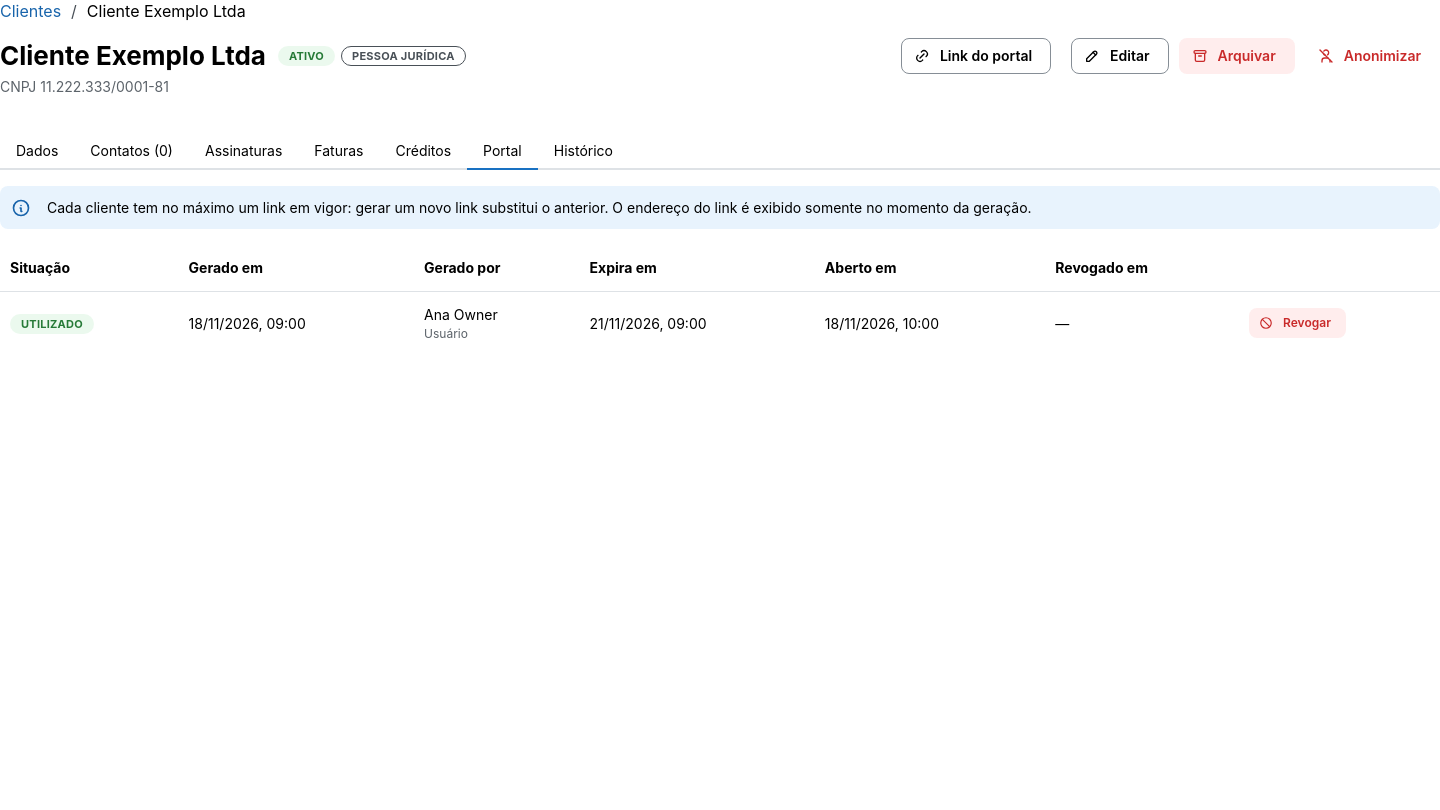
Scenario: links do portal na ficha do cliente › gerar link recarrega a lista de links, sem recarregar a ficha, e mantém o link de uso único na tela
Expected: the number of rows is 2, [0,246,1439,292]; [0,292,1439,355]
Click the button "Link do portal".
click(976, 56)  # box [901,38,1051,74]
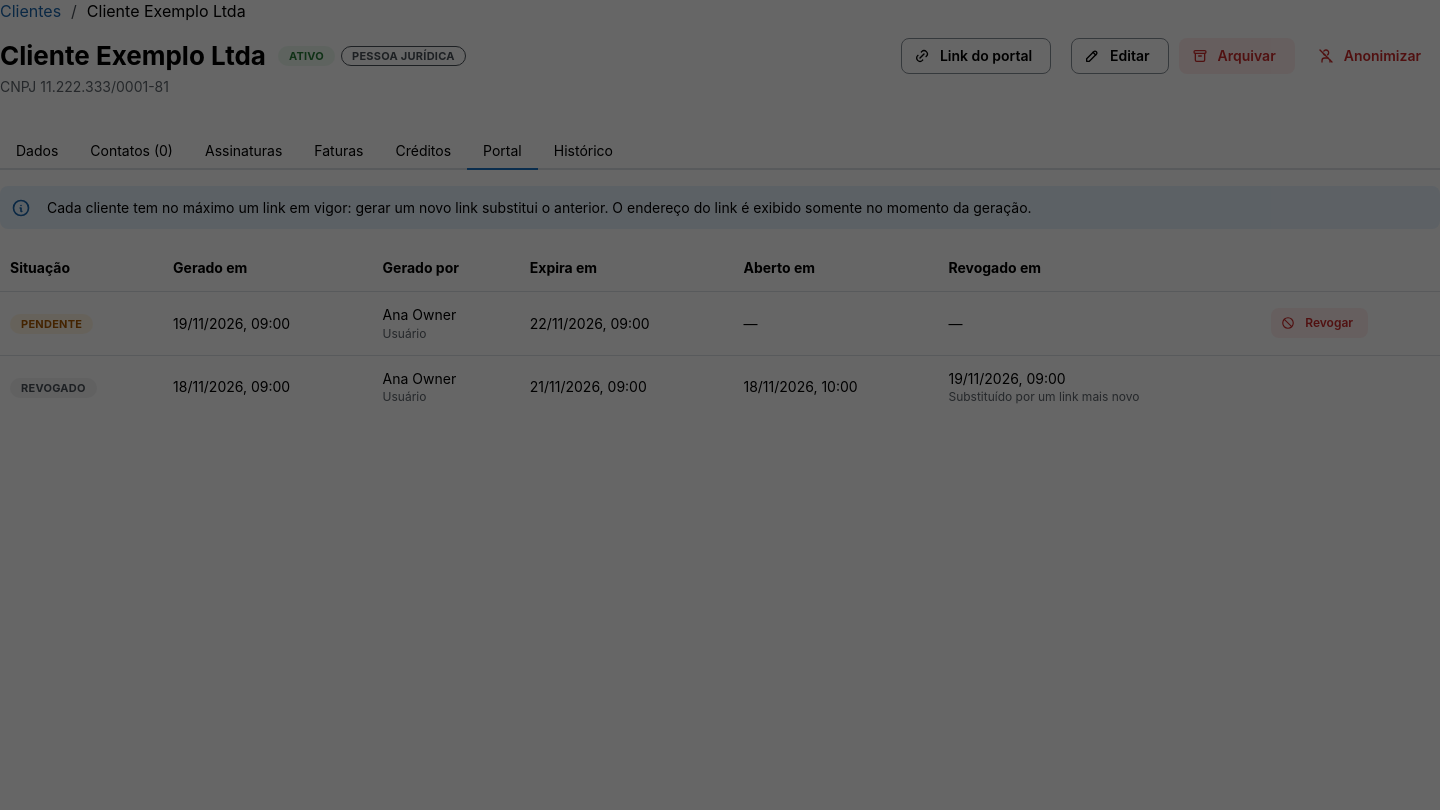
Expected: the text "Pendente" is shown, [21,315,82,333]
Expected: the text "Substituído por um link mais novo" is shown, [948,389,1140,404]
